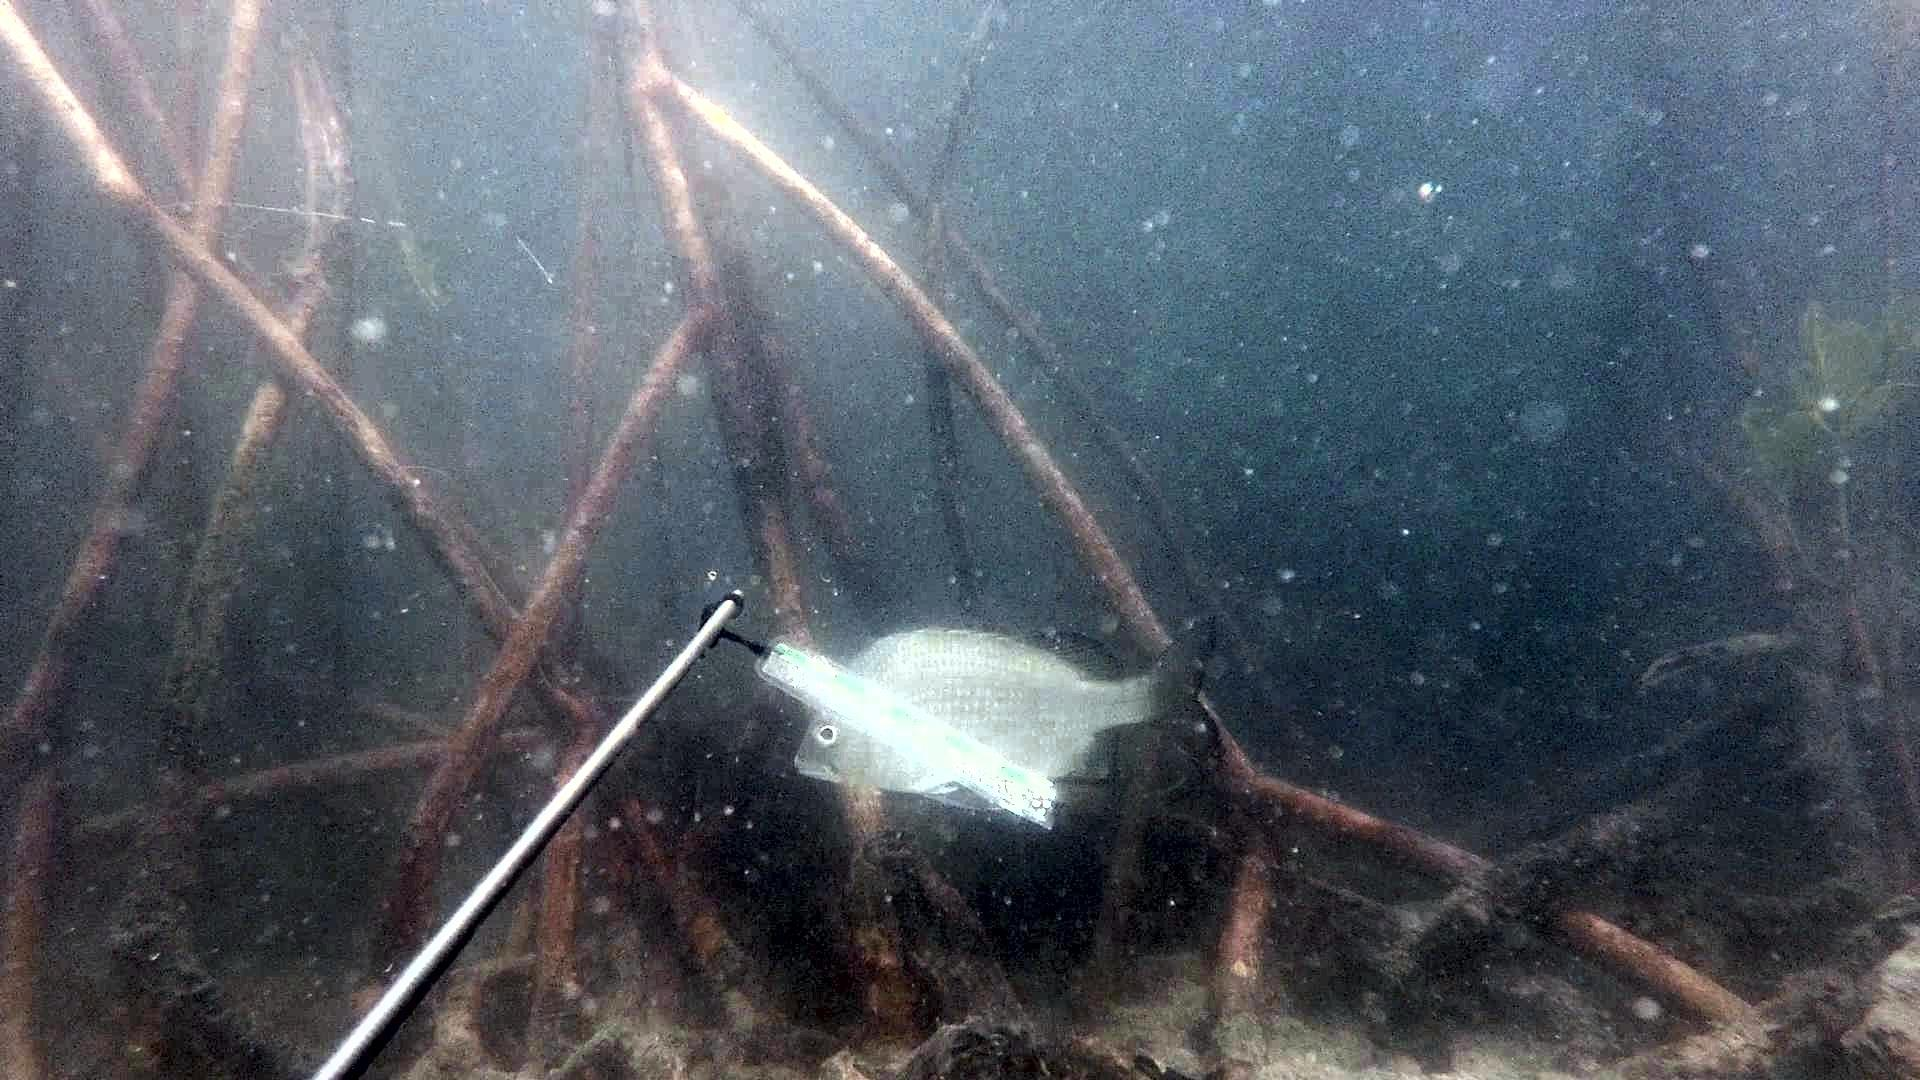acanthopagrus palmaris: (781, 600, 1251, 816)
